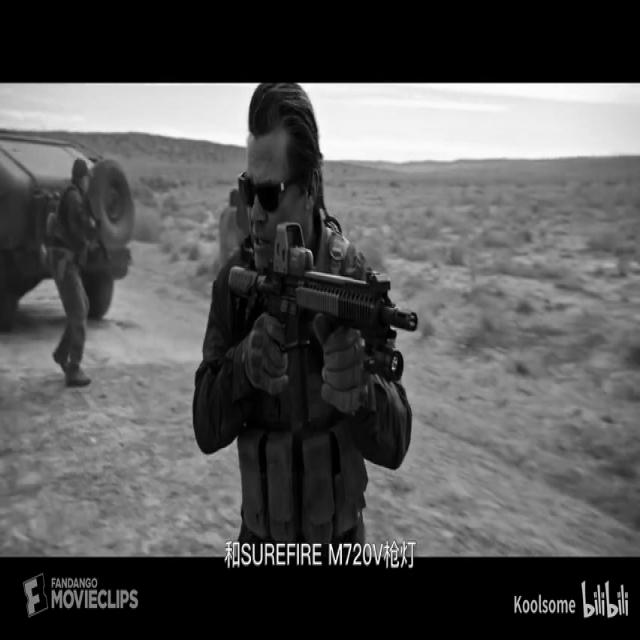Sub-machine-gun: (227, 214, 436, 379)
